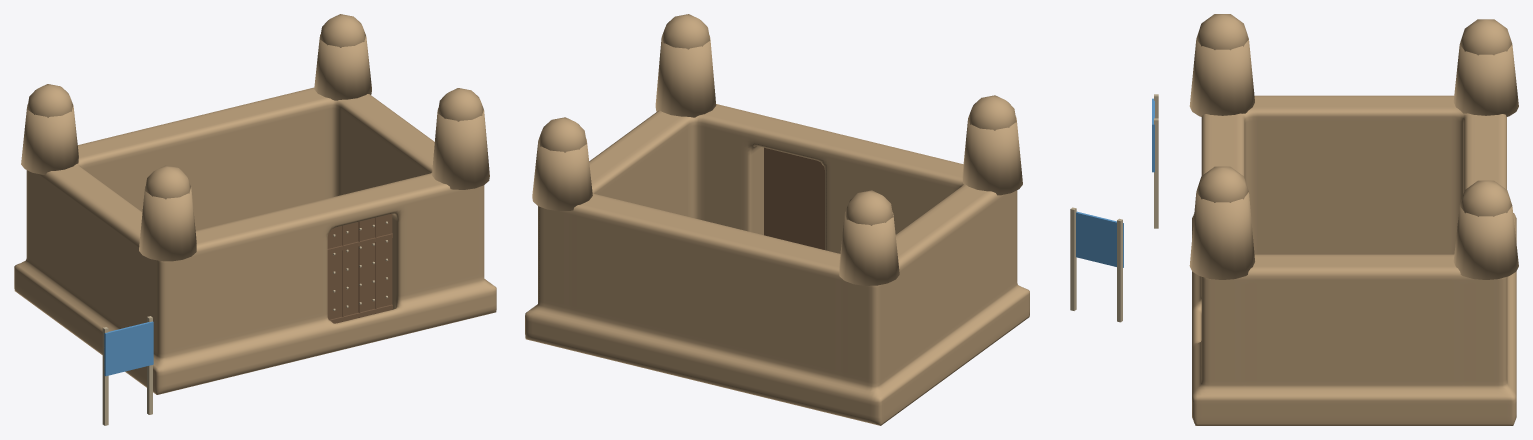
File: tombe-djenepo.glb
3 renders of one model, left to right at view 1: azimuth 30°, elevation 25°; view 2: azimuth 150°, elevation 25°; view 3: azimuth 270°, elevation 25°, orthographic. The views are drawn at different scales.
Parts seen in each view (by area): view 1: TD_Murs, TD_Creneaux, TD_Porte, TD_Panneau, TD_Panneau_Poteaux; view 2: TD_Murs, TD_Creneaux, TD_Porte, TD_Panneau, TD_Panneau_Poteaux; view 3: TD_Murs, TD_Creneaux, TD_Panneau_Poteaux.
Boxes of the visible parts, x1,y1,x2,y2 form: TD_Murs: (14, 87, 496, 394); TD_Creneaux: (21, 14, 489, 261); TD_Porte: (327, 214, 392, 323); TD_Panneau: (104, 321, 153, 376); TD_Panneau_Poteaux: (102, 316, 152, 425); TD_Murs: (525, 104, 1029, 425); TD_Creneaux: (532, 14, 1022, 285); TD_Porte: (764, 147, 824, 249); TD_Panneau: (1076, 211, 1123, 267); TD_Panneau_Poteaux: (1070, 207, 1122, 322); TD_Murs: (1192, 95, 1516, 425); TD_Creneaux: (1189, 14, 1518, 279); TD_Panneau_Poteaux: (1154, 94, 1158, 228).
Bounding box in the file's own units: 5.58 × 2.84 × 3.84.
